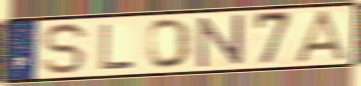7: (252, 10, 295, 68)
A: (291, 8, 354, 64)
L: (99, 22, 137, 71)
N: (196, 12, 246, 70)
O: (145, 17, 193, 71)
S: (41, 21, 93, 77)
